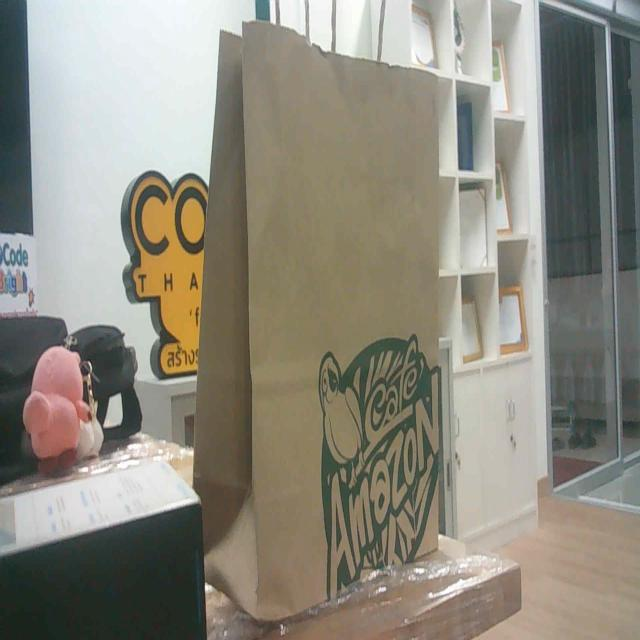bag: (210, 1, 462, 638)
